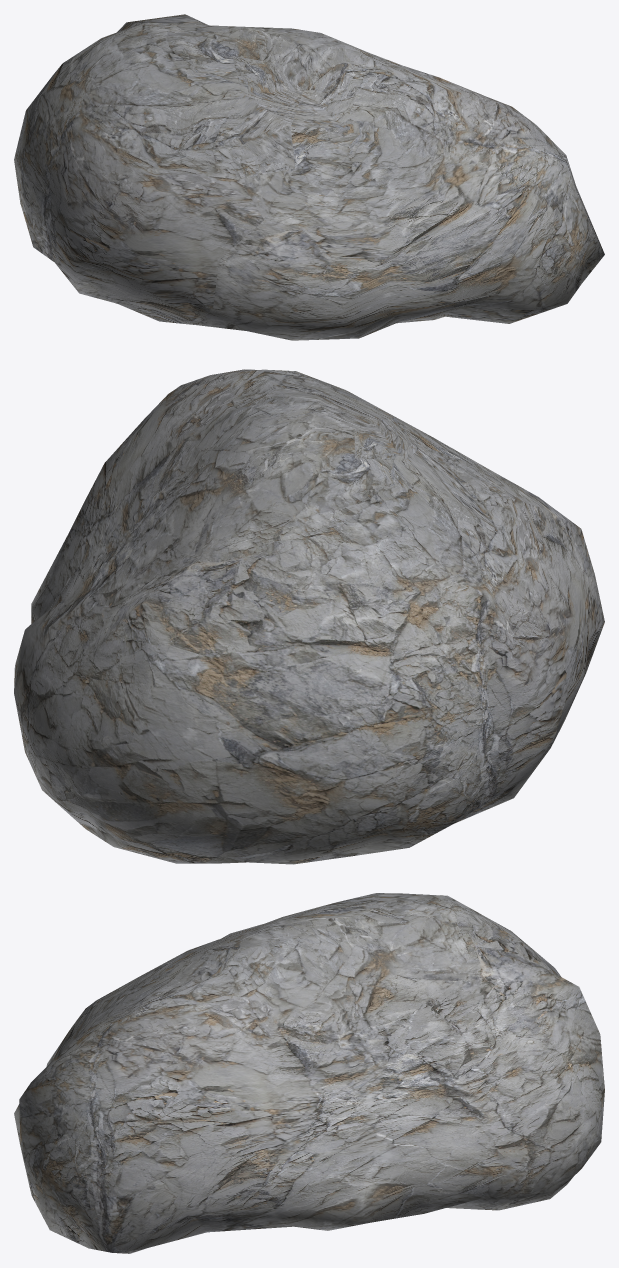
Rendered from rock.obj.
The picture shows the model from 3 angles, top to bottom: view 1: azimuth 30°, elevation 25°; view 2: azimuth 150°, elevation 25°; view 3: azimuth 270°, elevation 25°; orthographic projection. The views are drawn at different scales.
Parts seen in each view (by area): view 1: Icosphere; view 2: Icosphere; view 3: Icosphere.
Boxes of the visible parts, x1,y1,x2,y2 form: Icosphere: [14, 14, 604, 340]; Icosphere: [14, 369, 604, 864]; Icosphere: [14, 893, 604, 1253].
Bounding box in the file's own units: 5.11 × 2.92 × 5.83.
